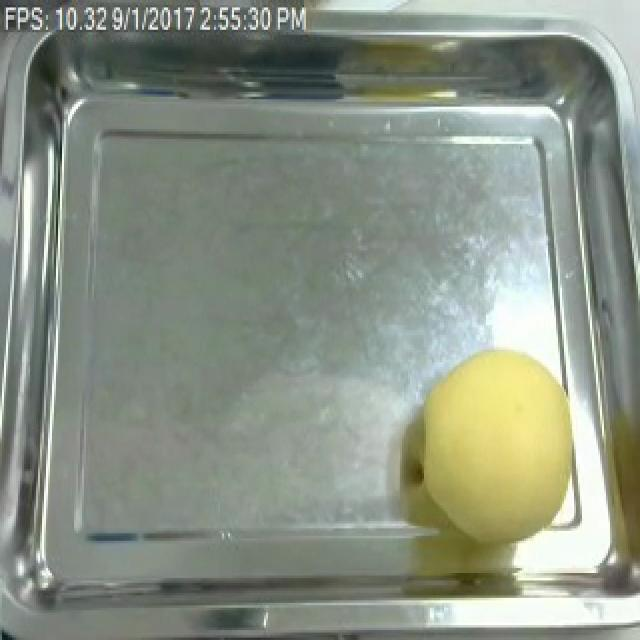Fruit: (406, 337, 590, 551)
